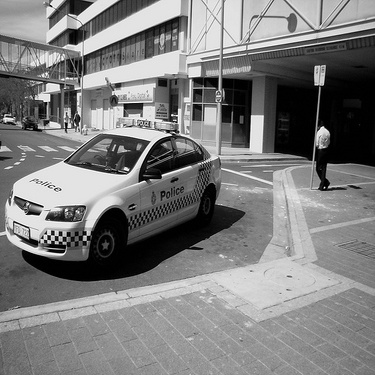car: (4, 114, 234, 277), (20, 112, 43, 135), (1, 105, 19, 131)
